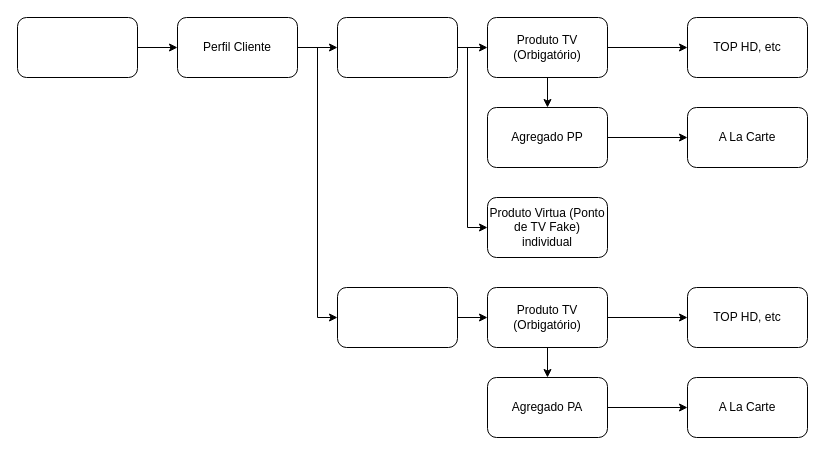
Some shapes in this 825 by 455 pixel diagram are drawn without their labels. The box of each missing label's shape, as (x1, y1, x2, y2) in pixels:
Ponto Adicional (PA): (336, 286, 458, 348)
Ponto Principal (PP): (336, 16, 458, 78)
Proposta: (16, 16, 138, 78)
